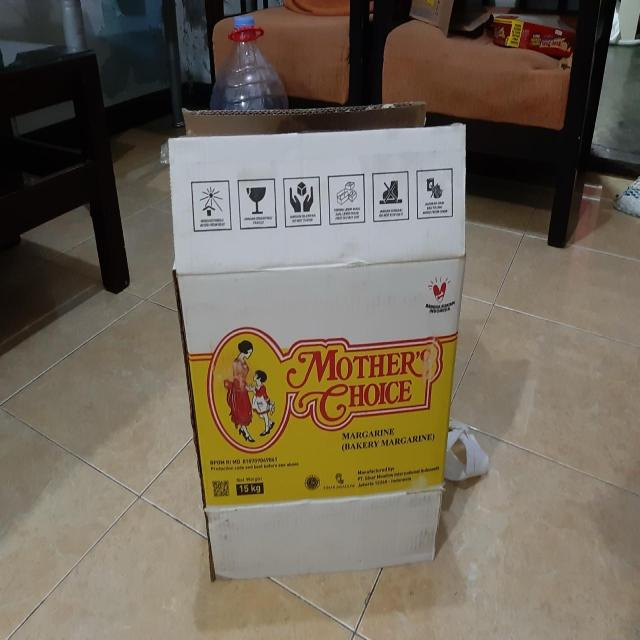Kardus: (167, 104, 469, 581), (222, 338, 256, 442), (250, 369, 275, 436)
